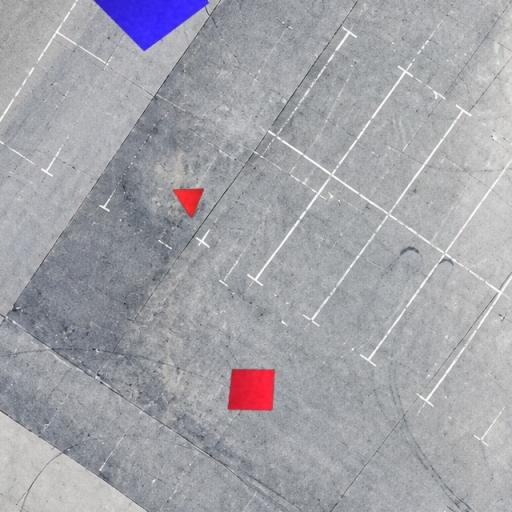BLUE_SQUARE: (86, 0, 210, 52)
RED_SQUARE: (227, 368, 275, 411)
